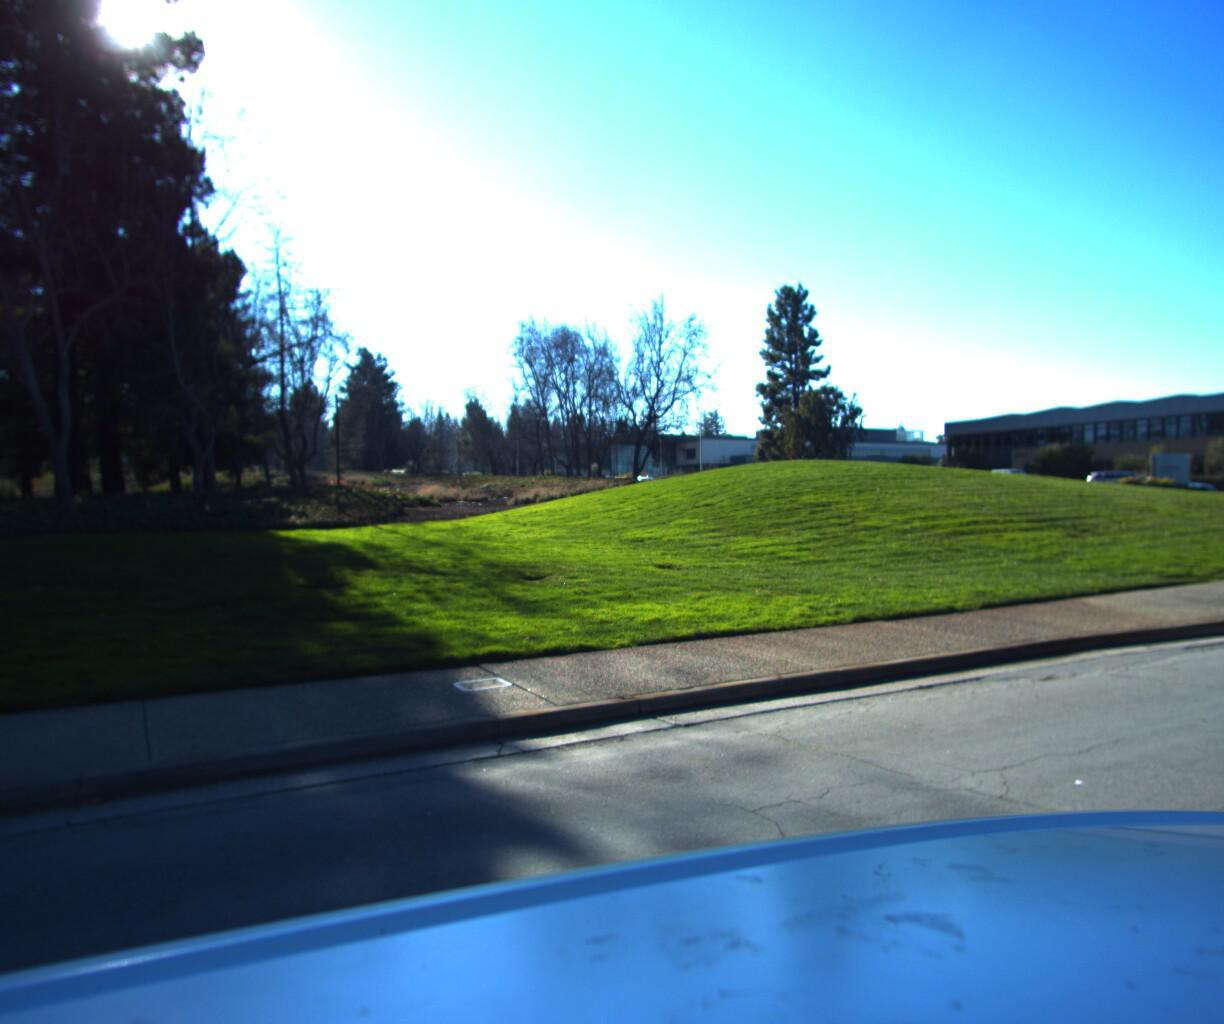car: (1222, 464, 1224, 492)
